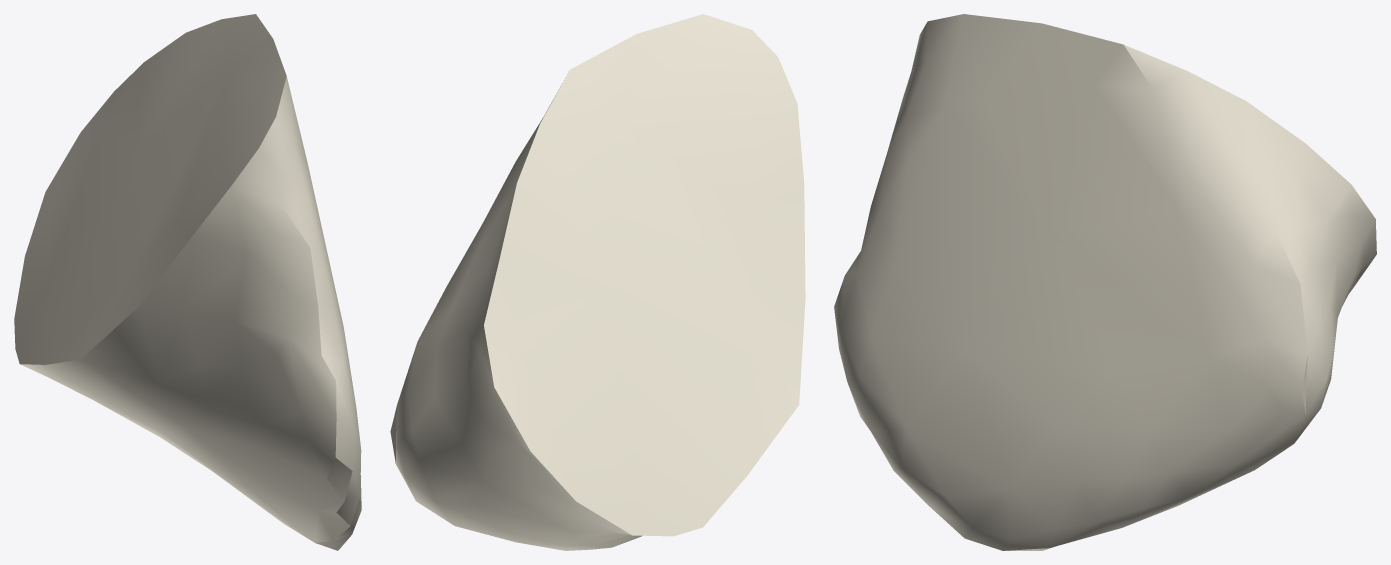
Rendered from fma12123_mm2390.glb.
The picture shows the model from 3 angles, left to right: view 1: azimuth 30°, elevation 25°; view 2: azimuth 150°, elevation 25°; view 3: azimuth 270°, elevation 25°; orthographic projection. The views are drawn at different scales.
Parts seen in each view (by area): view 1: FMA12123_MM2390; view 2: FMA12123_MM2390; view 3: FMA12123_MM2390.
Part boxes in pixels (bbox=[...]): FMA12123_MM2390: bbox=[14, 14, 361, 550]; FMA12123_MM2390: bbox=[390, 14, 805, 550]; FMA12123_MM2390: bbox=[834, 14, 1376, 550].
Bounding box in the file's own units: 0.00689 × 0.0117 × 0.0114.
